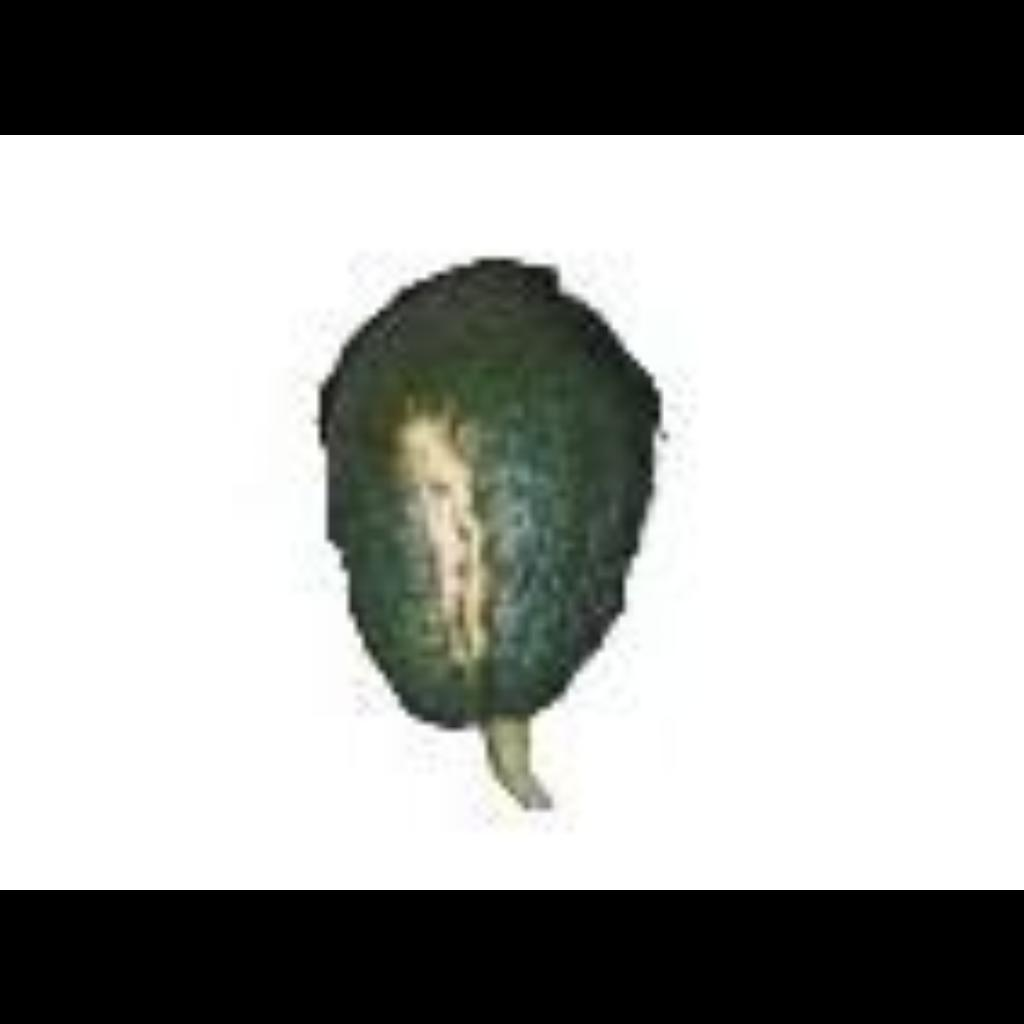sunblotch: (313, 276, 661, 719)
